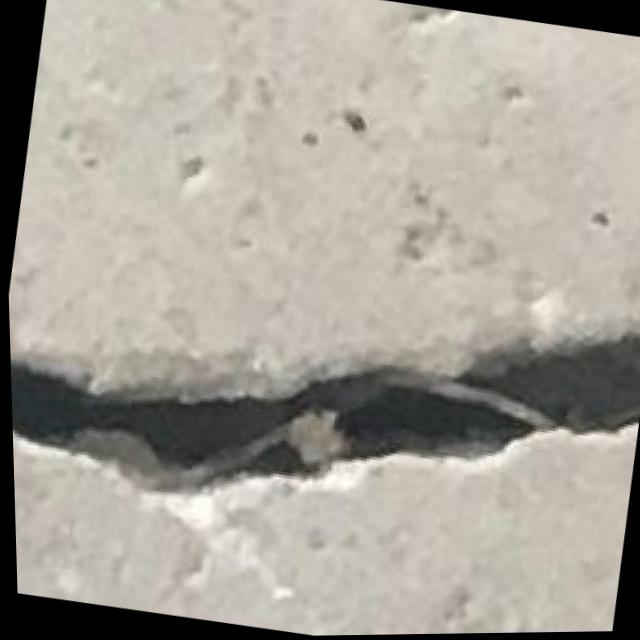Crack: (5, 225, 640, 585)
